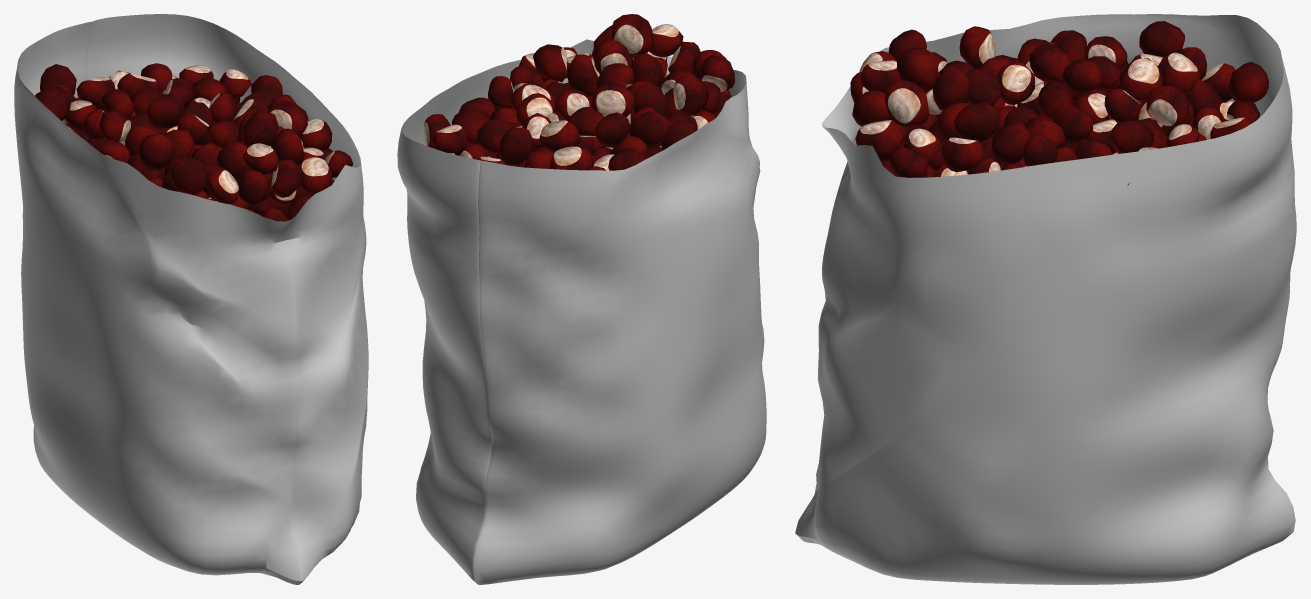
File: castagne sacco.fbx
3 renders of one model, left to right at view 1: azimuth 30°, elevation 25°; view 2: azimuth 150°, elevation 25°; view 3: azimuth 270°, elevation 25°, orthographic. The views are drawn at different scales.
Parts seen in each view (by area): view 1: AM216_33_bags_01, castagne, AM216_33_bags_01_1; view 2: AM216_33_bags_01, castagne, AM216_33_bags_01_1; view 3: AM216_33_bags_01, castagne, AM216_33_bags_01_1.
Boxes of the visible parts, <box> form: AM216_33_bags_01: <box>14,14,368,584</box>; castagne: <box>35,63,353,221</box>; AM216_33_bags_01_1: <box>15,14,368,584</box>; AM216_33_bags_01: <box>397,39,766,584</box>; castagne: <box>423,14,734,170</box>; AM216_33_bags_01_1: <box>397,40,766,583</box>; AM216_33_bags_01: <box>795,14,1296,584</box>; castagne: <box>850,21,1268,186</box>; AM216_33_bags_01_1: <box>796,14,1296,584</box>.
Size of the model in its own units: 47.98 by 73.08 by 66.53.
